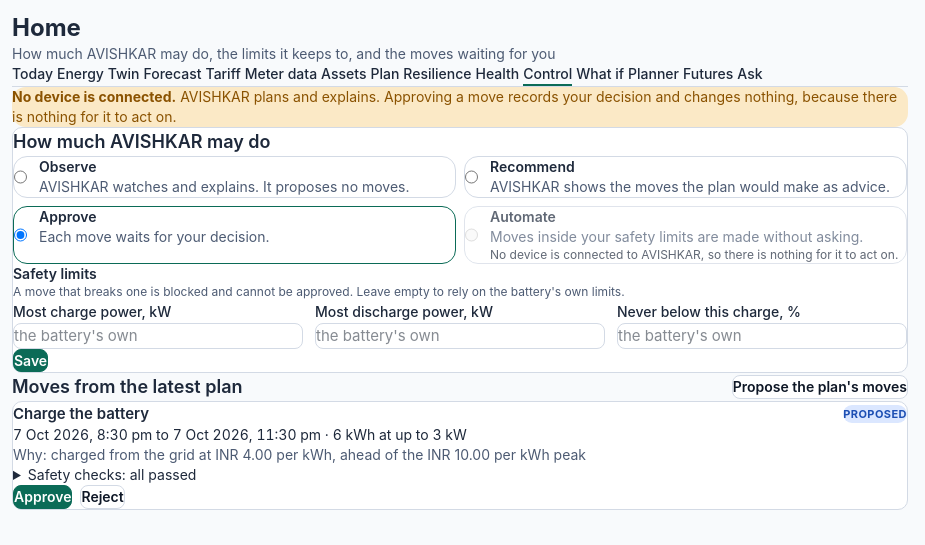
Test: ControlView › shows an error the server gives, such as a move that cannot be approved now
Click the button with aria-label "Approve: " at (43,497), box x1=13 y1=485 x2=72 y2=509
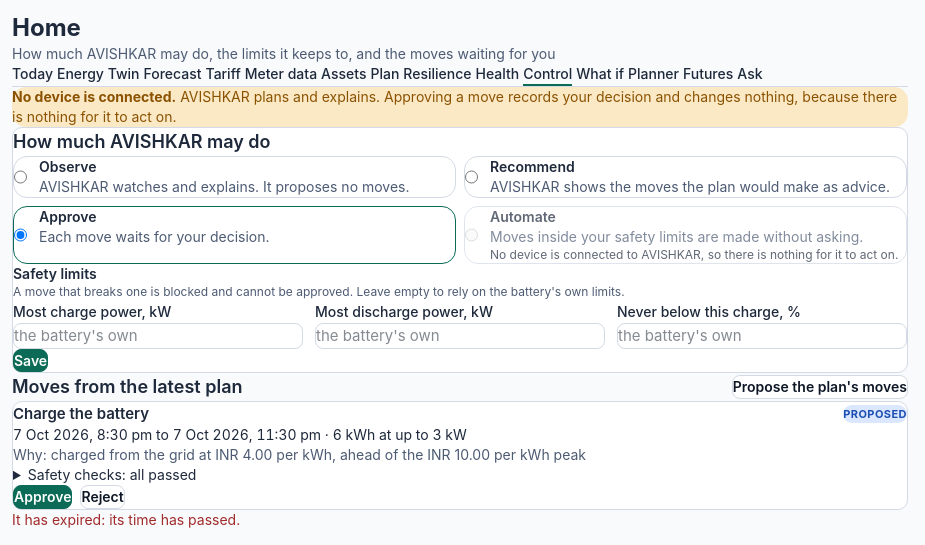
Expected: the message reads "It has expired: its time has passed.", x1=12 y1=511 x2=240 y2=528
